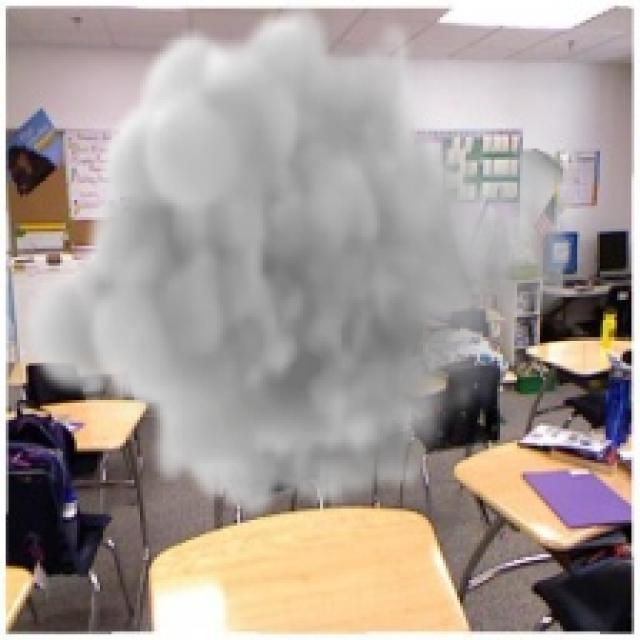Smoke: (17, 0, 574, 520)
